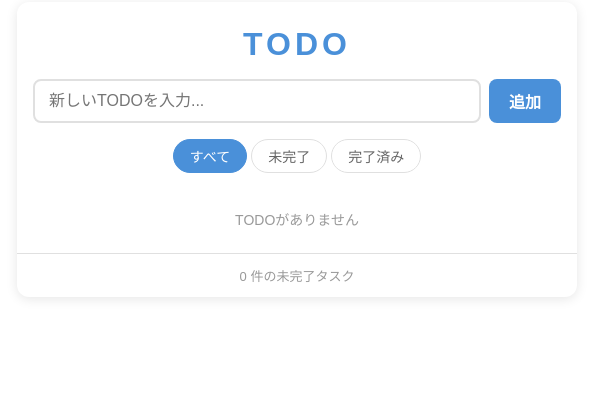
Test: TodoApp › TODO追加 › 複数のTODOを追加できる
In the field with placeholder "新しいTODOを入力...": (257, 101) [33,79,481,123], type "タスク1"
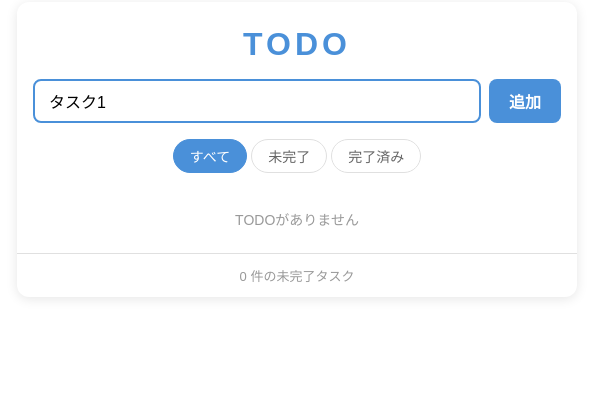
Click the button "追加": (525, 101) [489,79,561,123]
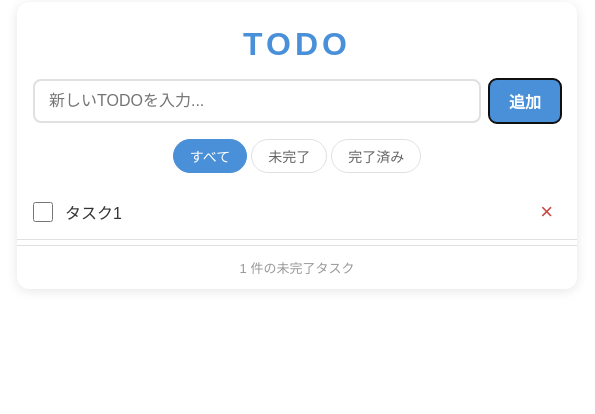
In the field with placeholder "新しいTODOを入力...": (257, 101) [33,79,481,123], type "タスク2"
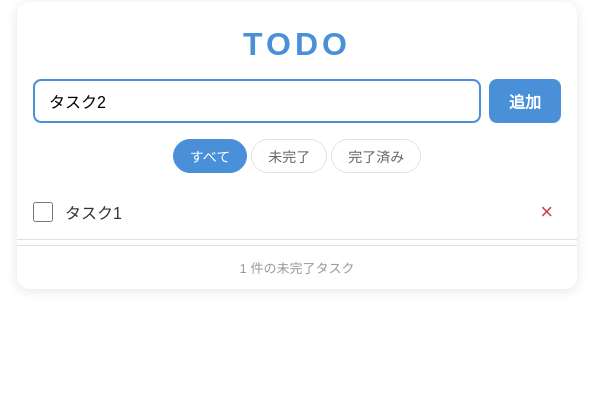
Click the button "追加": (525, 101) [489,79,561,123]
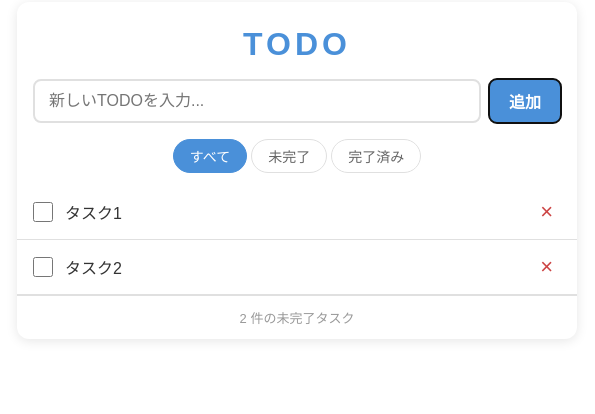
In the field with placeholder "新しいTODOを入力...": (257, 101) [33,79,481,123], type "タスク3"
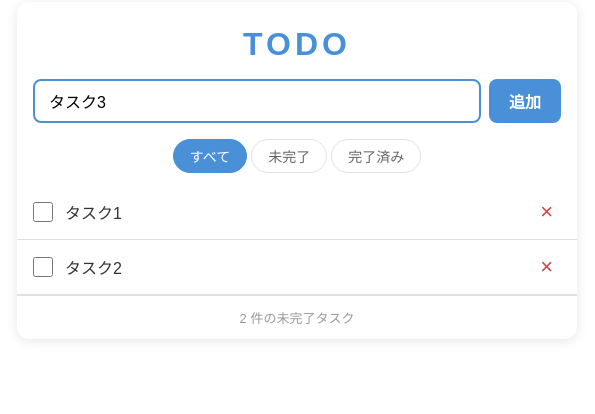
Click the button "追加": (525, 101) [489,79,561,123]
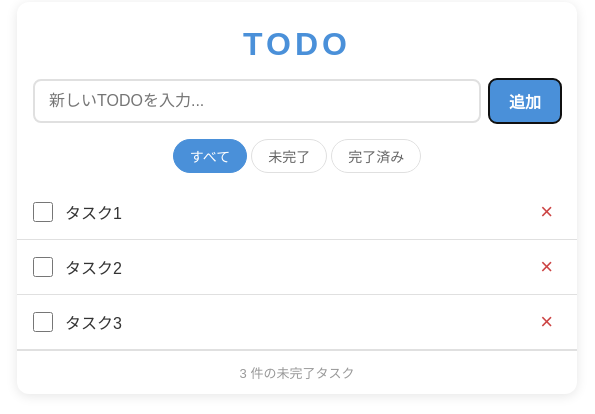
Check: the text "タスク1" is shown, box [65,200,122,224]
Check: the text "タスク2" is shown, box [65,255,122,279]
Check: the text "タスク3" is shown, box [65,310,122,334]
